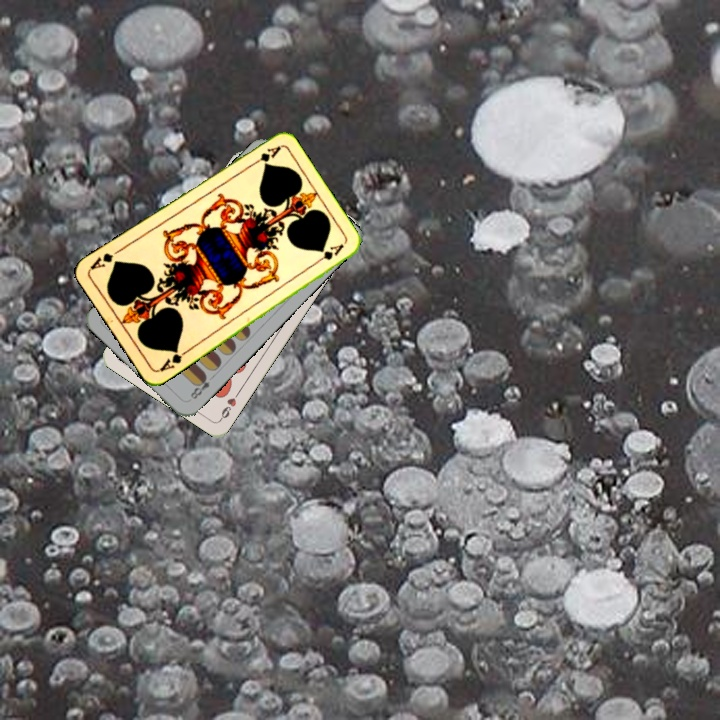E8: (186, 370, 217, 402)
GA: (156, 344, 191, 374), (246, 142, 283, 169)
H9: (216, 386, 243, 423)
